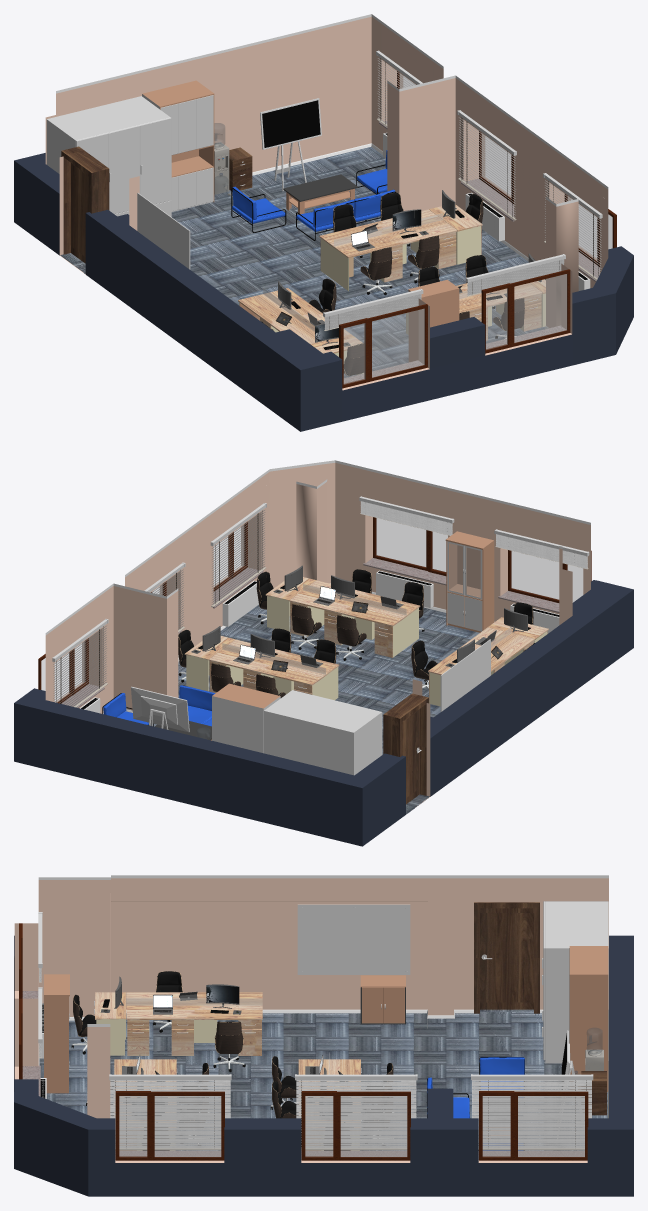
File: office.glb
3 views of the same model, one above another, from view 1: azimuth 30°, elevation 25°; view 2: azimuth 150°, elevation 25°; view 3: azimuth 270°, elevation 25° (orthographic). The views are drawn at different scales.
Visible parts, largest first — view 1: Office.006, Office.007, Floor, Cube.023, Cube.024, Cylinder.007, Cube.016, Cube.010, Cube.025, Cube.032, defaultMaterial, Cylinder.002 (+26 smaller); view 2: Office.006, Office.007, Floor, Cube.023, Cylinder.001, Cube.031, Cylinder.007, Cube.025, Cube.024, defaultMaterial.001, Cube.016, defaultMaterial.002 (+27 smaller); view 3: Office.006, Office.007, Floor, Cube.036, defaultMaterial.001, defaultMaterial, defaultMaterial.002, Cube.025, Cube.023, Cylinder.002, Cube.019, Cube.017 (+25 smaller).
Boxes of the visible parts, x1,y1,x2,y2 form: Office.006: [14, 84, 633, 431]; Office.007: [45, 14, 608, 371]; Floor: [60, 146, 545, 377]; Cube.023: [46, 96, 171, 216]; Cube.024: [142, 80, 214, 211]; Cylinder.007: [319, 209, 457, 291]; Cube.016: [486, 274, 566, 349]; Cube.010: [344, 308, 424, 384]; Cube.025: [61, 146, 109, 263]; Cube.032: [260, 98, 321, 191]; defaultMaterial: [457, 110, 516, 220]; Cylinder.002: [238, 288, 350, 363]; Office.006: [14, 527, 633, 846]; Office.007: [45, 460, 590, 807]; Floor: [127, 604, 479, 813]; Cube.023: [264, 690, 382, 775]; Cylinder.001: [289, 580, 420, 657]; Cube.031: [445, 531, 494, 632]; Cylinder.007: [208, 639, 339, 700]; Cube.025: [383, 693, 428, 804]; Cube.024: [212, 683, 280, 753]; defaultMaterial.001: [210, 503, 266, 607]; Cube.016: [376, 518, 447, 572]; defaultMaterial.002: [52, 619, 108, 707]; Office.006: [14, 935, 633, 1196]; Office.007: [14, 875, 608, 1162]; Floor: [39, 1009, 607, 1150]; Cube.036: [297, 904, 410, 974]; defaultMaterial.001: [109, 1074, 231, 1149]; defaultMaterial: [295, 1074, 417, 1149]; defaultMaterial.002: [471, 1074, 593, 1149]; Cube.025: [474, 902, 539, 1013]; Cube.023: [543, 901, 608, 1063]; Cylinder.002: [126, 992, 262, 1055]; Cube.019: [483, 1096, 584, 1156]; Cube.017: [119, 1096, 220, 1156].
Size of the model in its own units: 6.69 by 2.31 by 9.02.
Materials: 32 (16 with a texture image).
